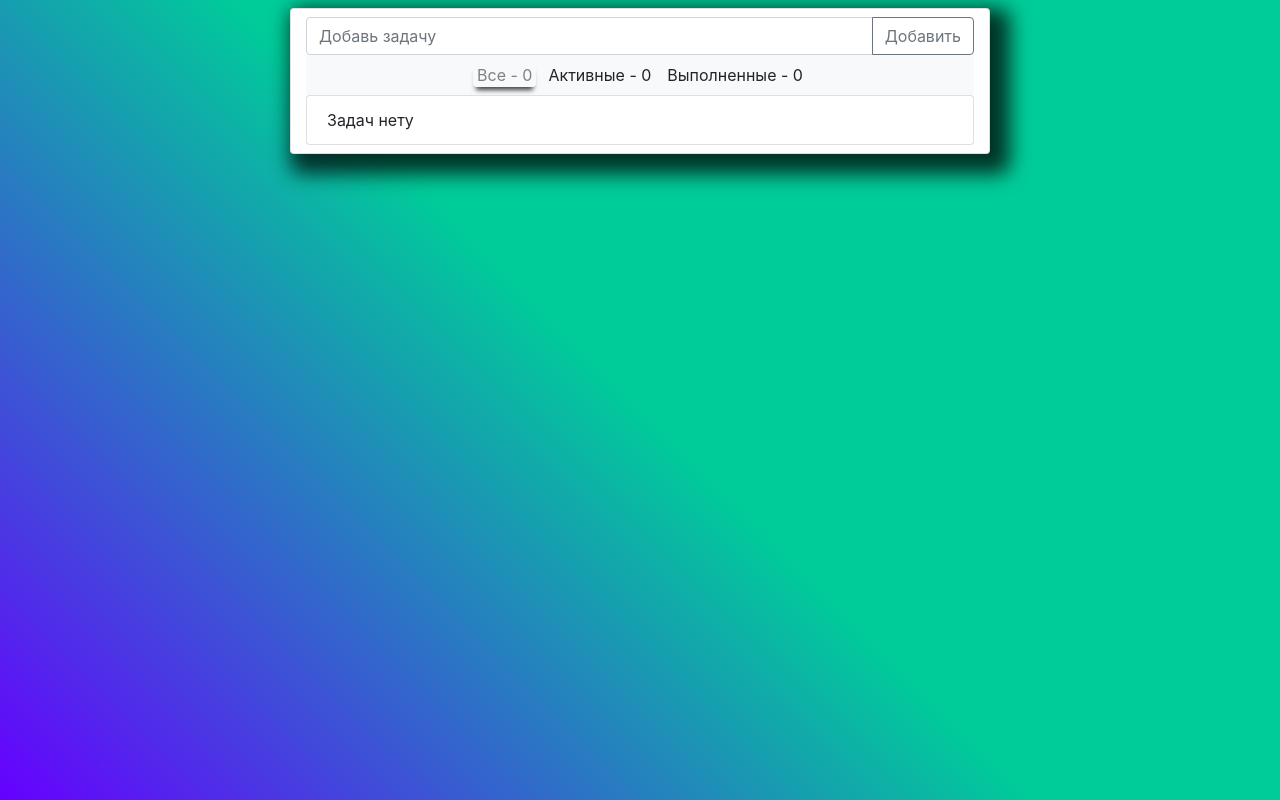
Test: should add new task
This screenshot has width=1280, height=800.
Type "Купить молоко" into the field with placeholder "Добавь задачу" at (589, 36), box [306,17,873,55]
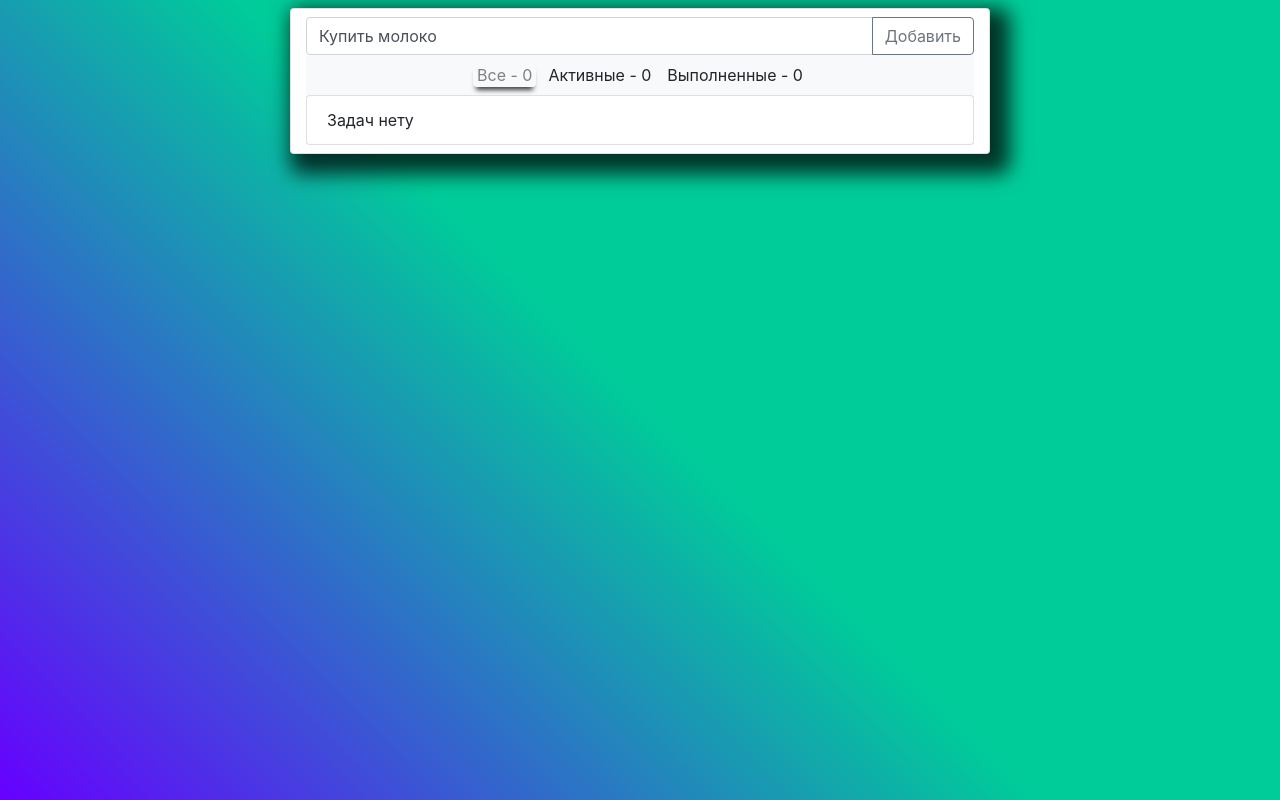
Click the button "Добавить" at (923, 36), box [872,17,974,55]
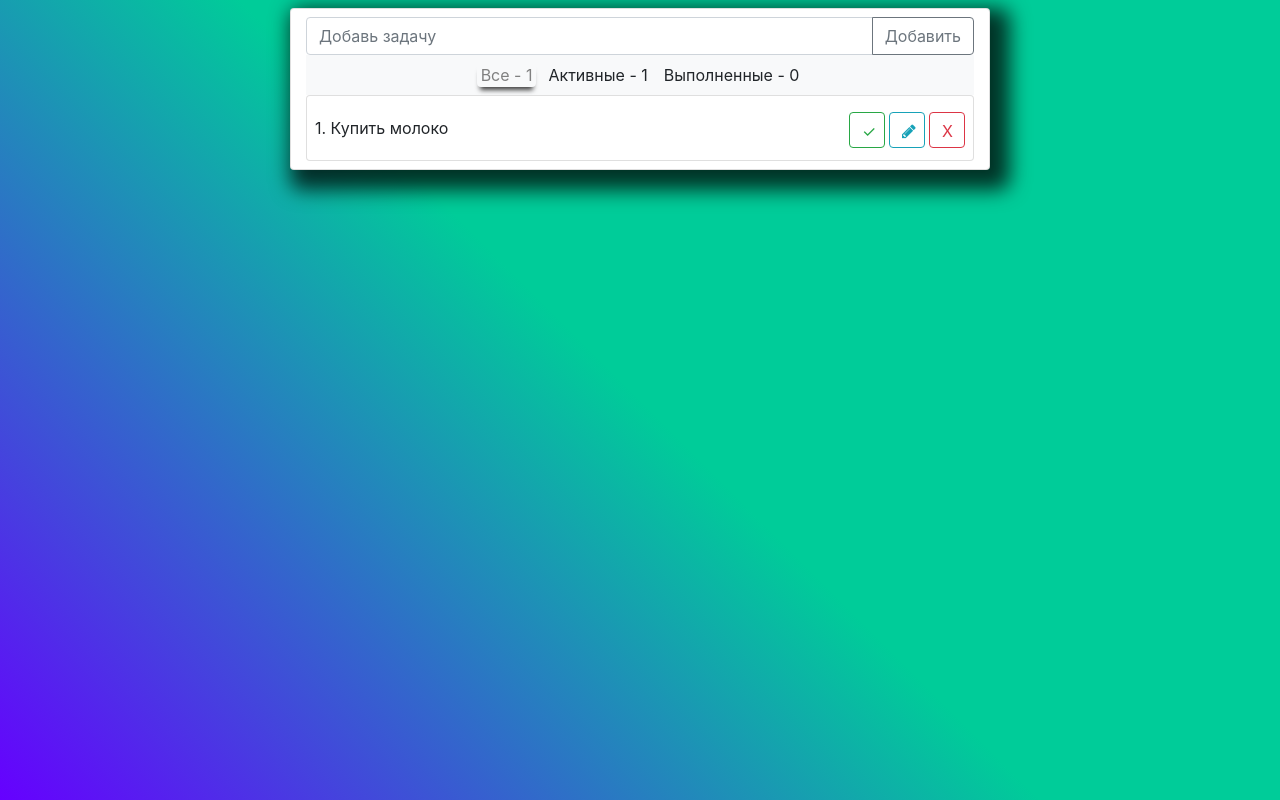
Now the text "1. Купить молоко" is shown, box [315,116,448,140]
